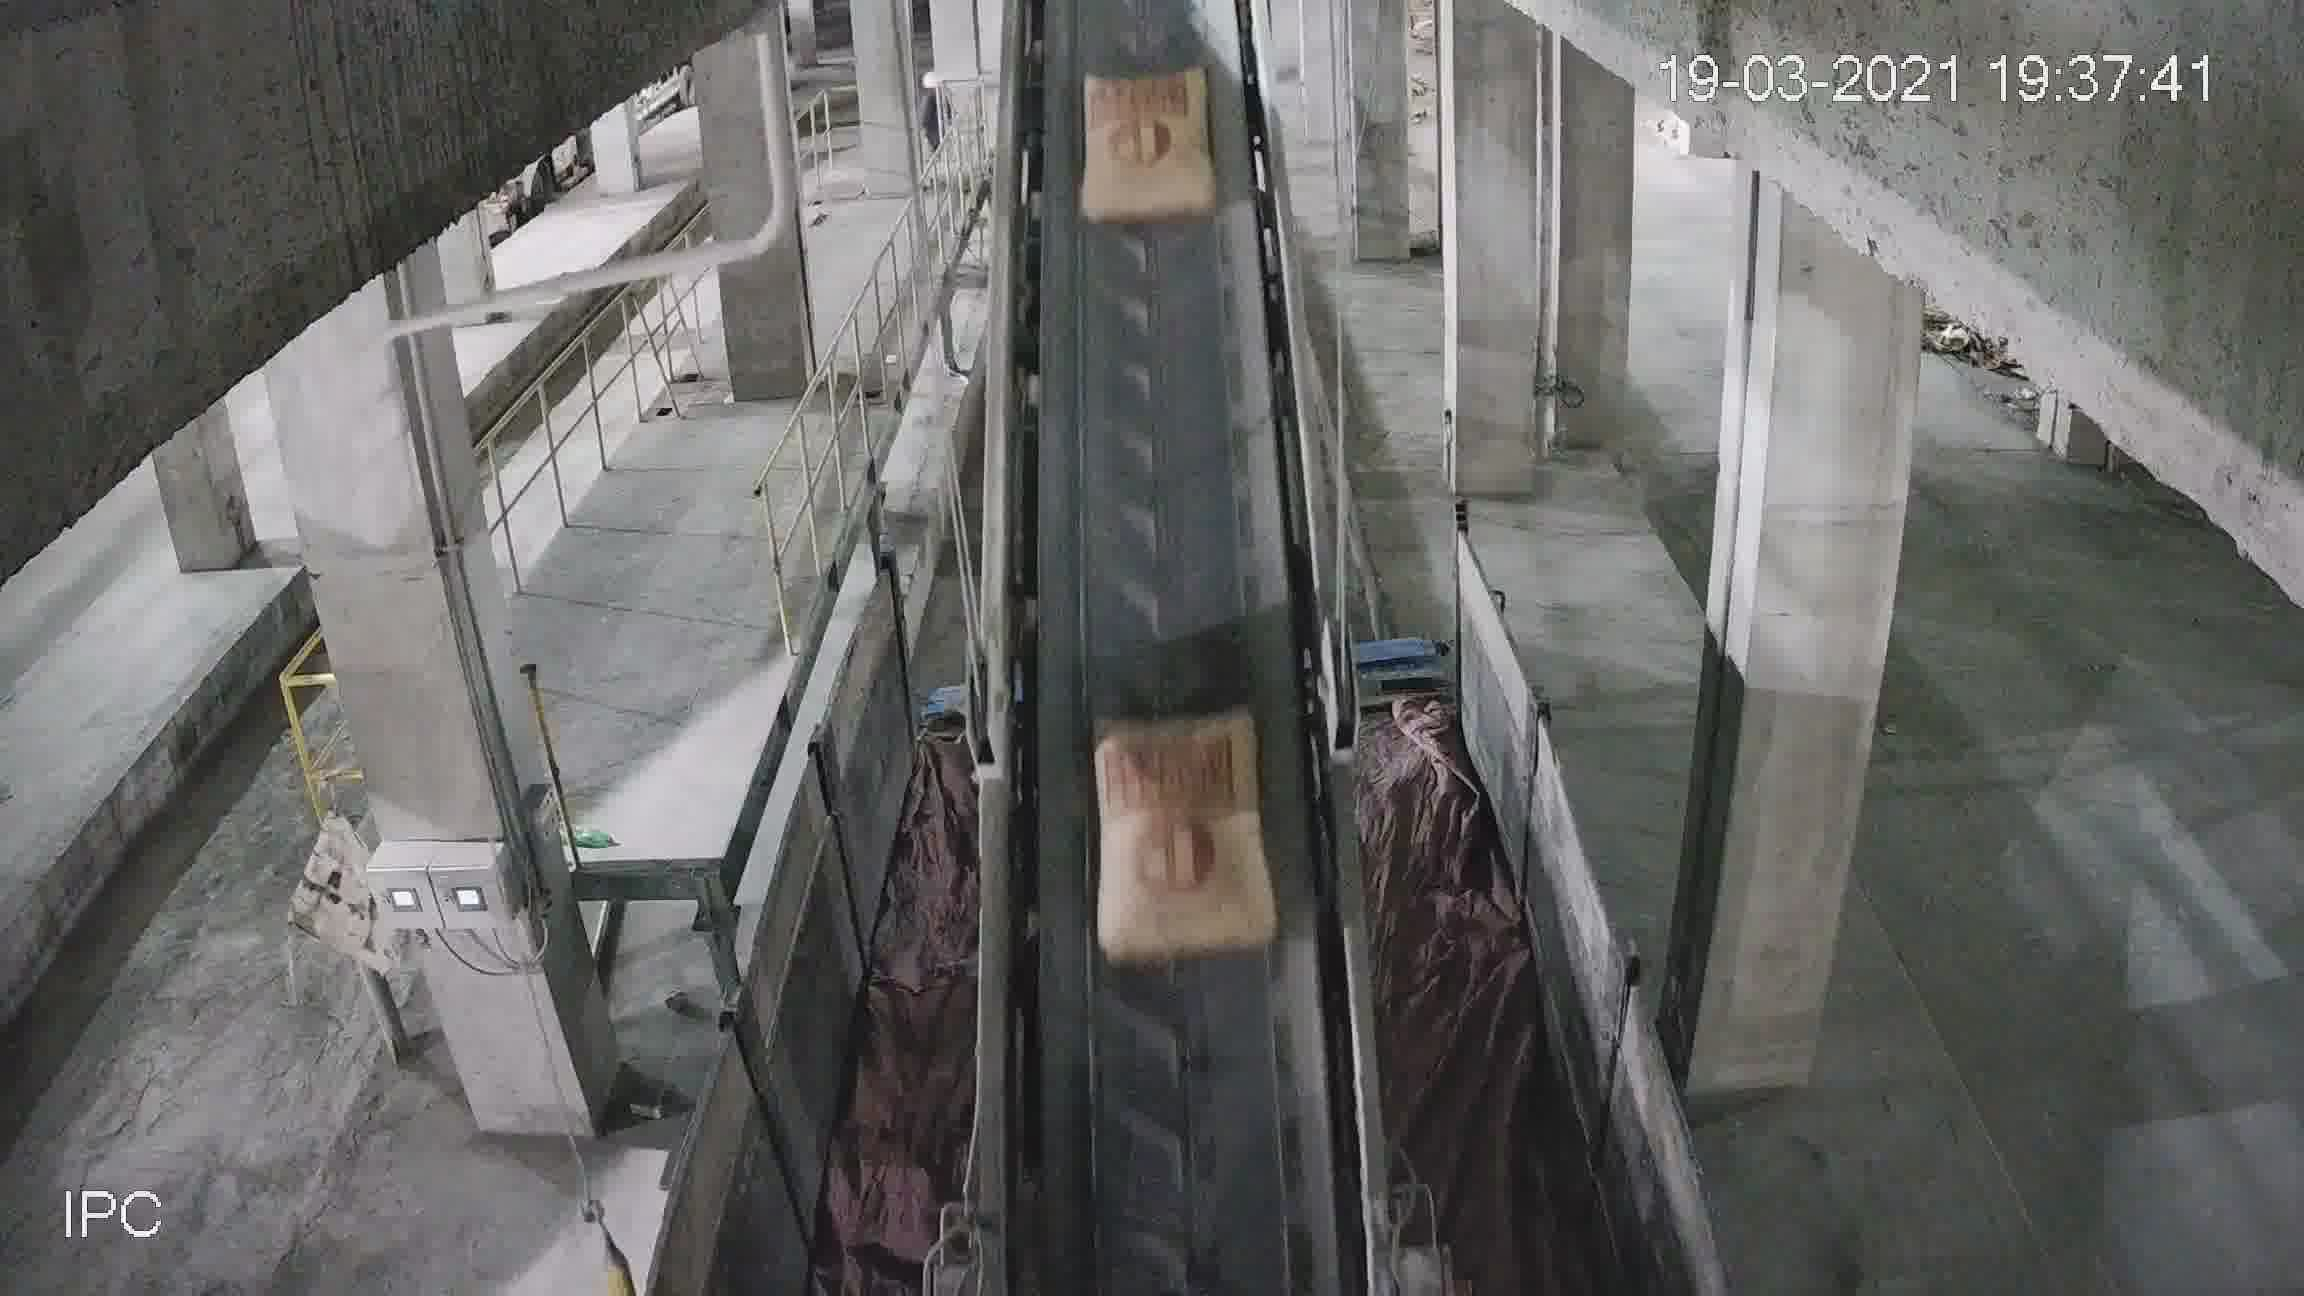bag: (1098, 707, 1272, 968), (1079, 76, 1214, 215)
belt: (995, 6, 1343, 1124)
